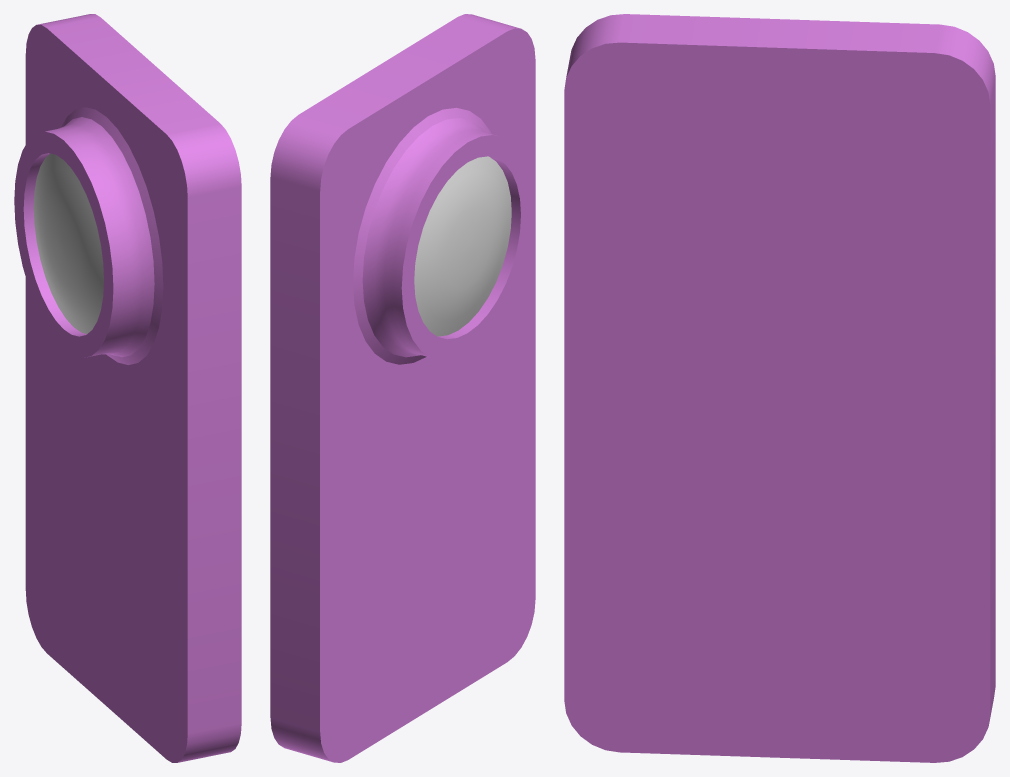
File: iPhone18.fbx
3 views of the same model, side by side, from view 1: azimuth 30°, elevation 25°; view 2: azimuth 150°, elevation 25°; view 3: azimuth 270°, elevation 25° (orthographic). The views are drawn at different scales.
Visible parts, largest first — view 1: PhoneBody, PhoneCamera; view 2: PhoneBody, PhoneCamera; view 3: PhoneBody.
Boxes of the visible parts, x1,y1,x2,y2 form: PhoneBody: [25, 14, 241, 762]; PhoneCamera: [14, 107, 163, 364]; PhoneBody: [270, 14, 535, 762]; PhoneCamera: [353, 107, 533, 364]; PhoneBody: [564, 14, 995, 762].
Bounding box in the file's own units: 394 × 136 × 716.
